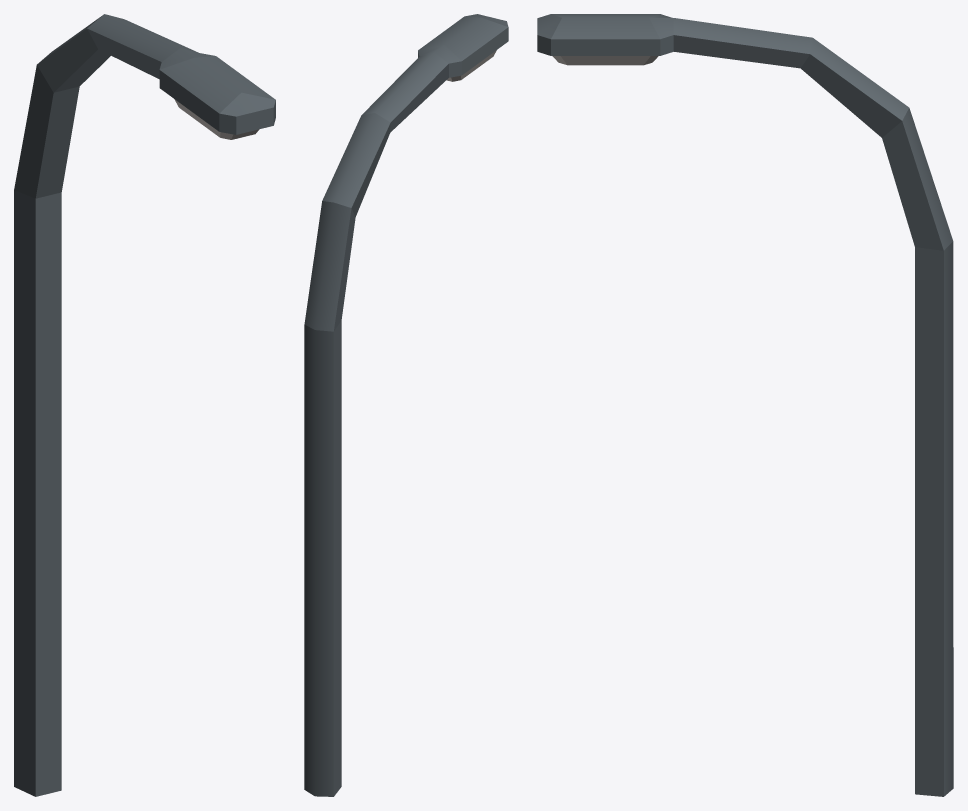
Rendered from SM_Prop_Lightpole_01.fbx.
The picture shows the model from 3 angles, left to right: view 1: azimuth 30°, elevation 25°; view 2: azimuth 150°, elevation 25°; view 3: azimuth 270°, elevation 25°; orthographic projection. The views are drawn at different scales.
Parts seen in each view (by area): view 1: SM_Prop_Lightpole_01; view 2: SM_Prop_Lightpole_01; view 3: SM_Prop_Lightpole_01.
Part boxes in pixels (bbox=[...]): SM_Prop_Lightpole_01: bbox=[14, 14, 275, 796]; SM_Prop_Lightpole_01: bbox=[304, 14, 508, 796]; SM_Prop_Lightpole_01: bbox=[537, 14, 953, 796].
Bounding box in the file's own units: 2.96 × 42.13 × 20.61.
